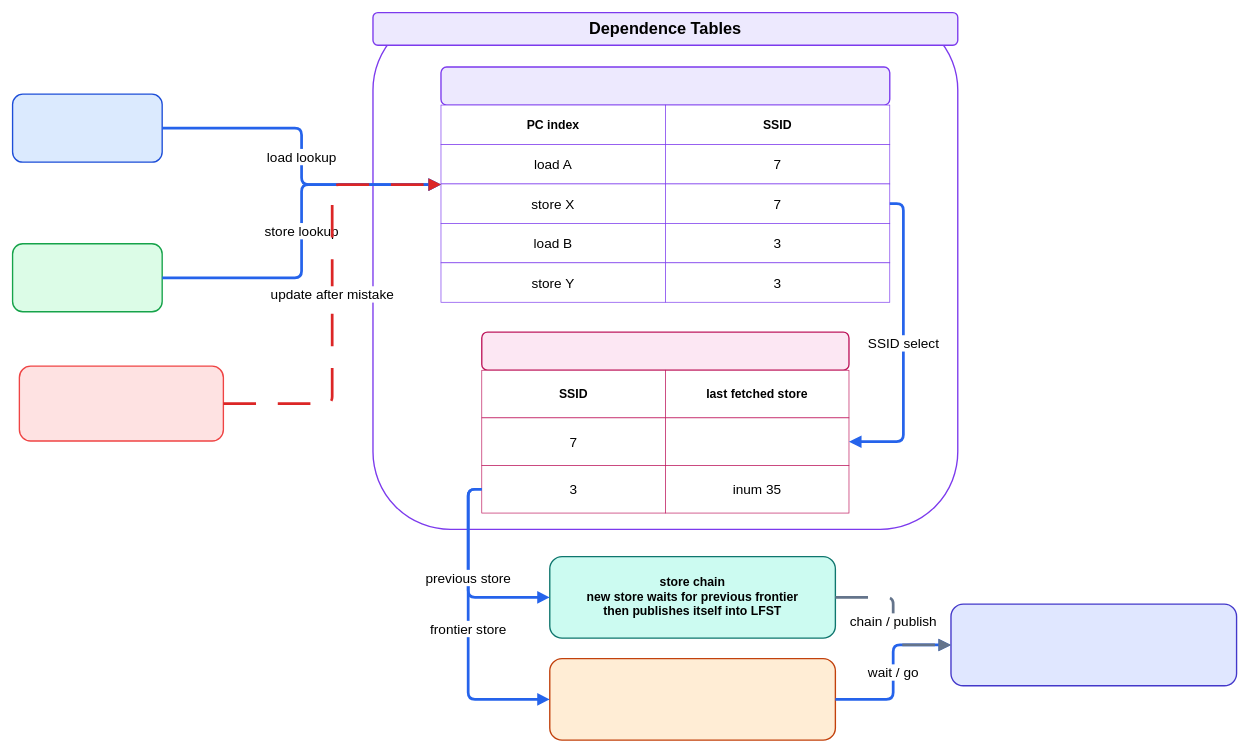
Image size: 1248x752. Some labels were removed from this diagram. The centre of each missing label's shape, as x and y in pixels:
inum 41: the point at 757,441
issue stage load may go or wait store advances the chain: the point at 1093,644
LFST: the point at 665,351
load PC dispatch / rename: the point at 87,128
load wait target PC -> SSIT -> SSID -> LFST wait for one store inum: the point at 692,699
SSIT: the point at 665,85
store PC dispatch / rename: the point at 87,277
violation feedback real ordering mistake triggers learning: the point at 121,403
